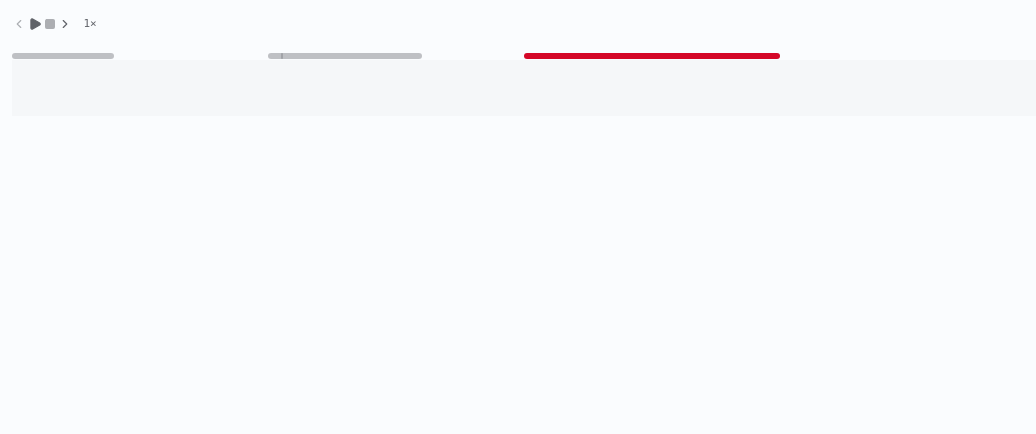
Scenario: Timeline range selection › drag past the threshold selects a time window and shows the selection overlay
Press the mouse on the element with test id "timeline-strip" at (524, 76), box [12,36,1035,116]
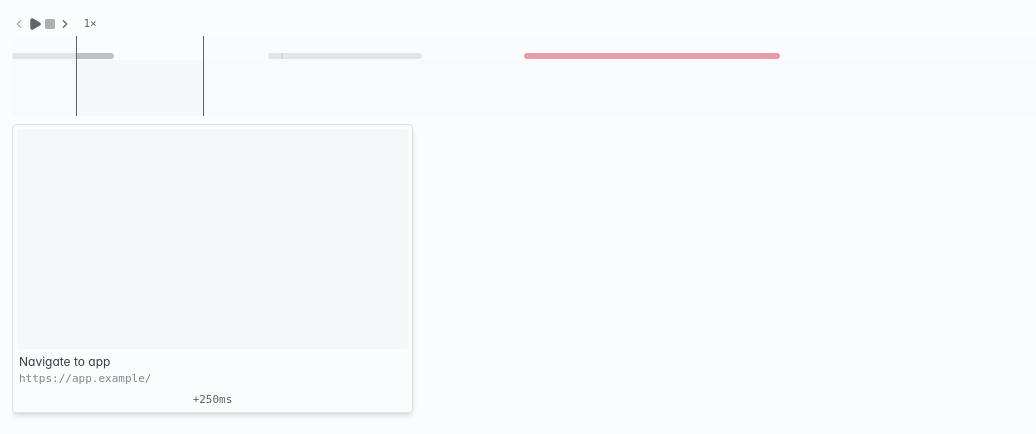
Check: the element with test id "timeline-selection" is shown, box [12,36,1035,116]
